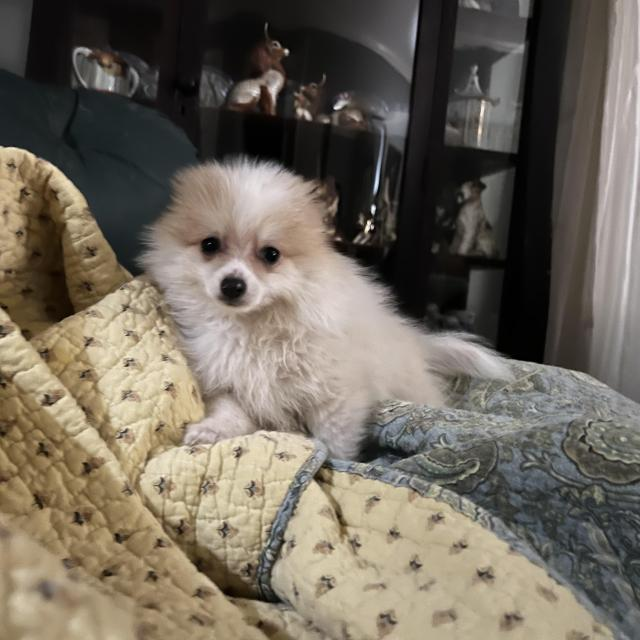pomeranian_dog: (140, 150, 355, 328)
